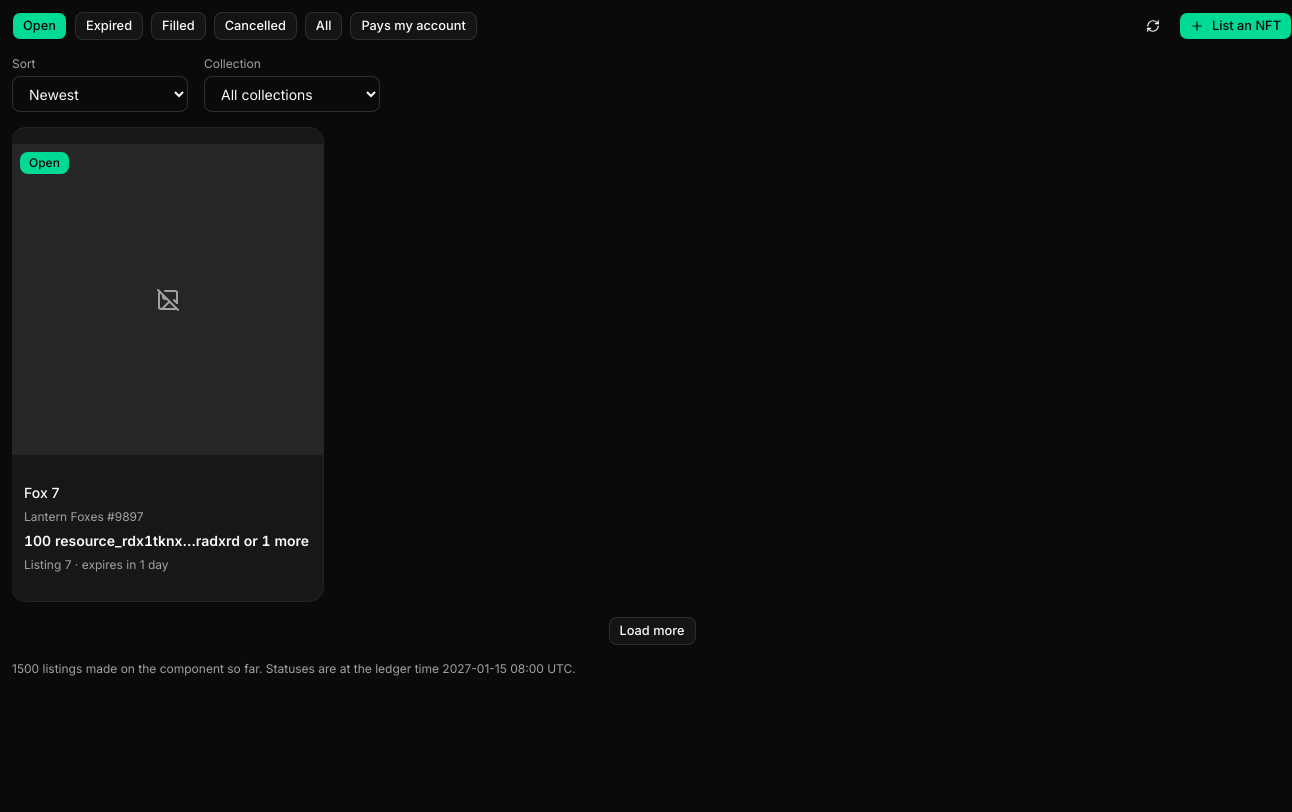
Scenario: SwapBoard — cards, sort and collection filter › a reply from before the sort changed is not spliced into the new order
The image size is (1292, 812).
Click the button "Load more": (652, 631) 608,617 -> 696,645
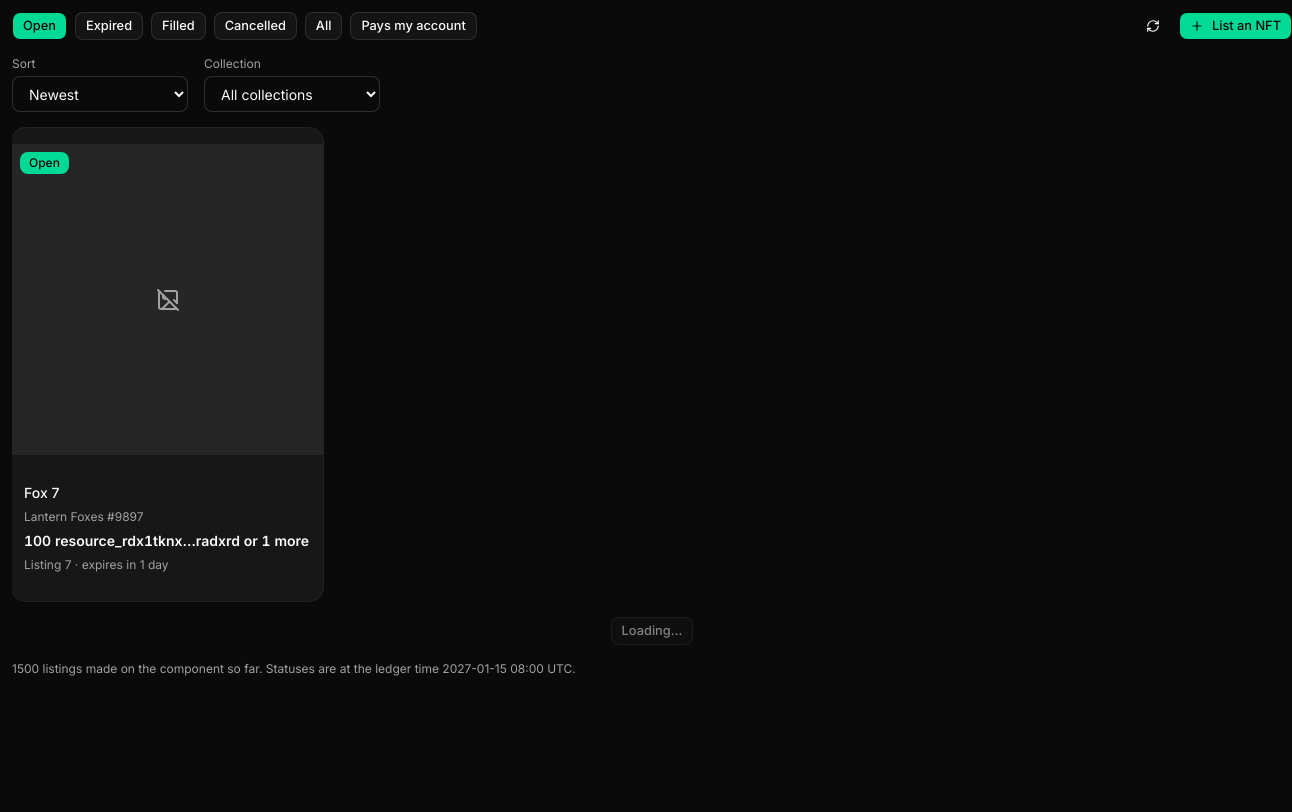
Select "Name: A to Z" in the dropdown labelled "Sort": (100, 94) 12,76 -> 188,112
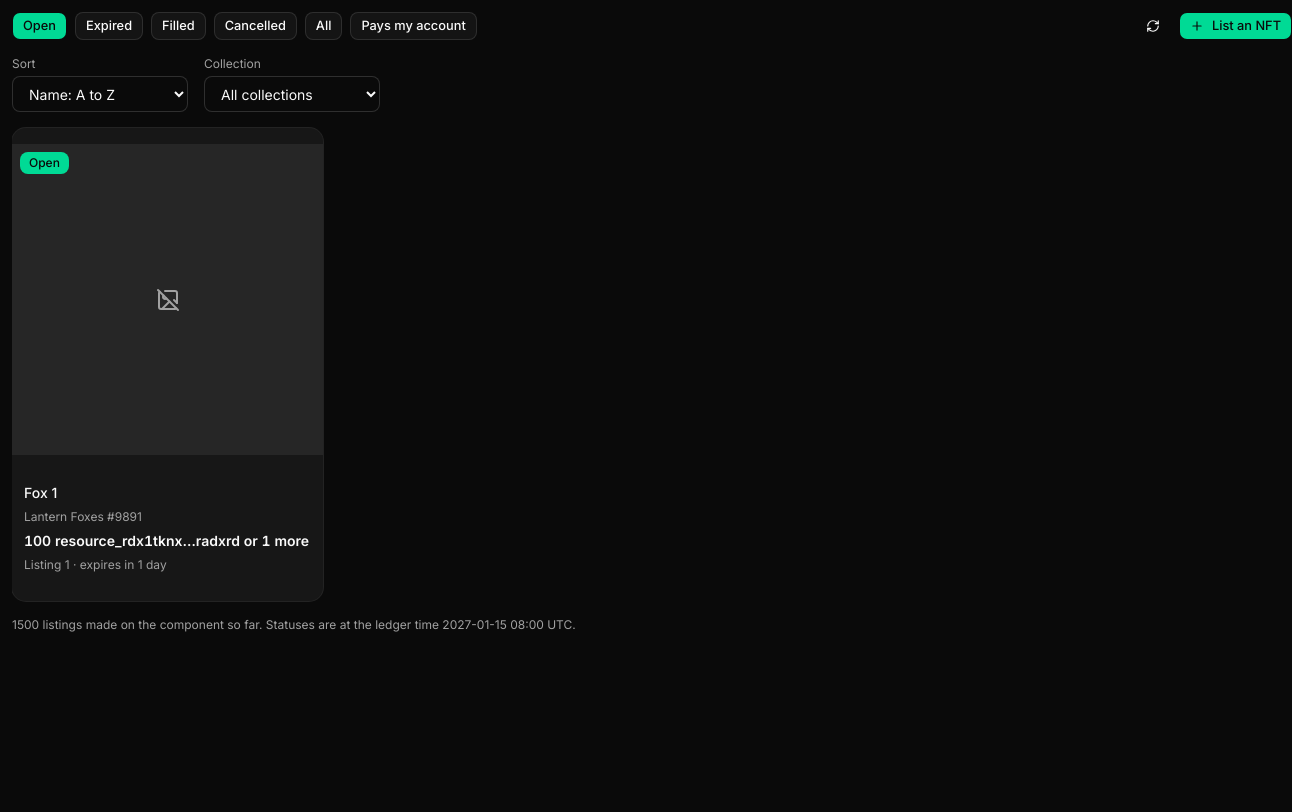
expect the text "Fox 1" is shown: met, box 24,484 -> 57,501
